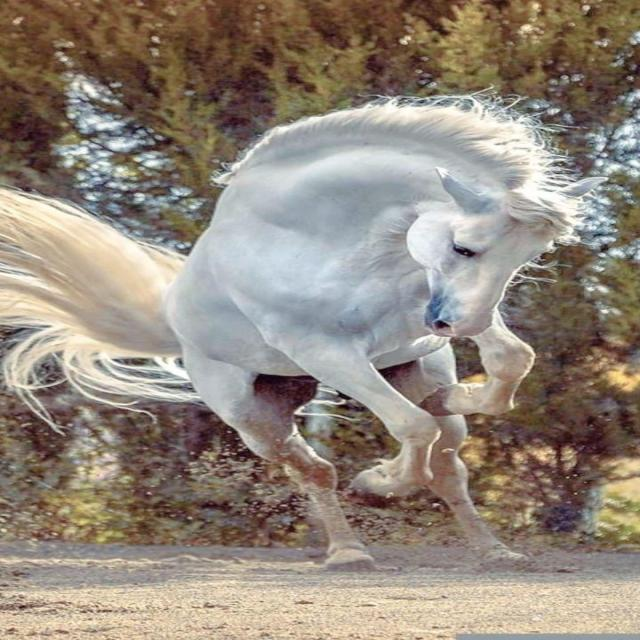horse: (1, 86, 609, 571)
